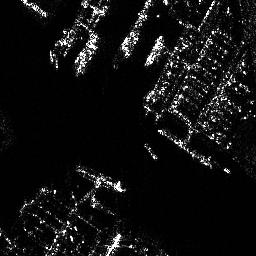ship: (145, 34, 166, 68)
